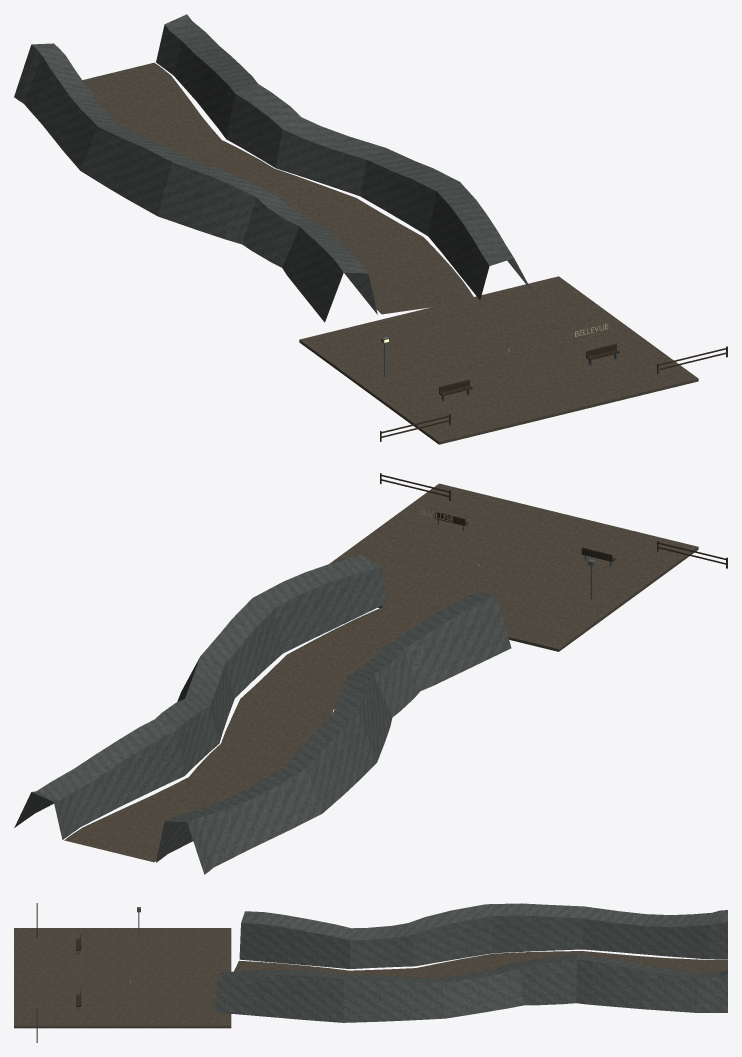
File: PL_Shared_Bellevue.fbx
The picture shows the model from 3 angles, top to bottom: view 1: azimuth 30°, elevation 25°; view 2: azimuth 150°, elevation 25°; view 3: azimuth 270°, elevation 25°; orthographic projection. The views are drawn at different scales.
Parts seen in each view (by area): view 1: PL_Bellevue_Overlook, PL_Bank_Safe_1, PL_Bank_Safe_-1, PL_Travel_Safe; view 2: PL_Bellevue_Overlook, PL_Bank_Safe_-1, PL_Bank_Safe_1, PL_Travel_Safe; view 3: PL_Bank_Safe_-1, PL_Bank_Safe_1, PL_Bellevue_Overlook, PL_Travel_Safe.
Part boxes in pixels (x1,y1,x2,y2): PL_Bellevue_Overlook: (299,276,698,444); PL_Bank_Safe_1: (14,43,377,322); PL_Bank_Safe_-1: (156,14,532,300); PL_Travel_Safe: (82,62,475,314); PL_Bellevue_Overlook: (329,483,698,651); PL_Bank_Safe_-1: (14,555,388,839); PL_Bank_Safe_1: (156,592,511,874); PL_Travel_Safe: (64,603,428,862); PL_Bank_Safe_-1: (214,954,727,1022); PL_Bank_Safe_1: (239,903,727,968); PL_Bellevue_Overlook: (14,928,231,1028); PL_Travel_Safe: (234,951,727,977).
Bounding box in the file's own units: 4014 × 565 × 9200.
Materials: 6 (3 with a texture image).
